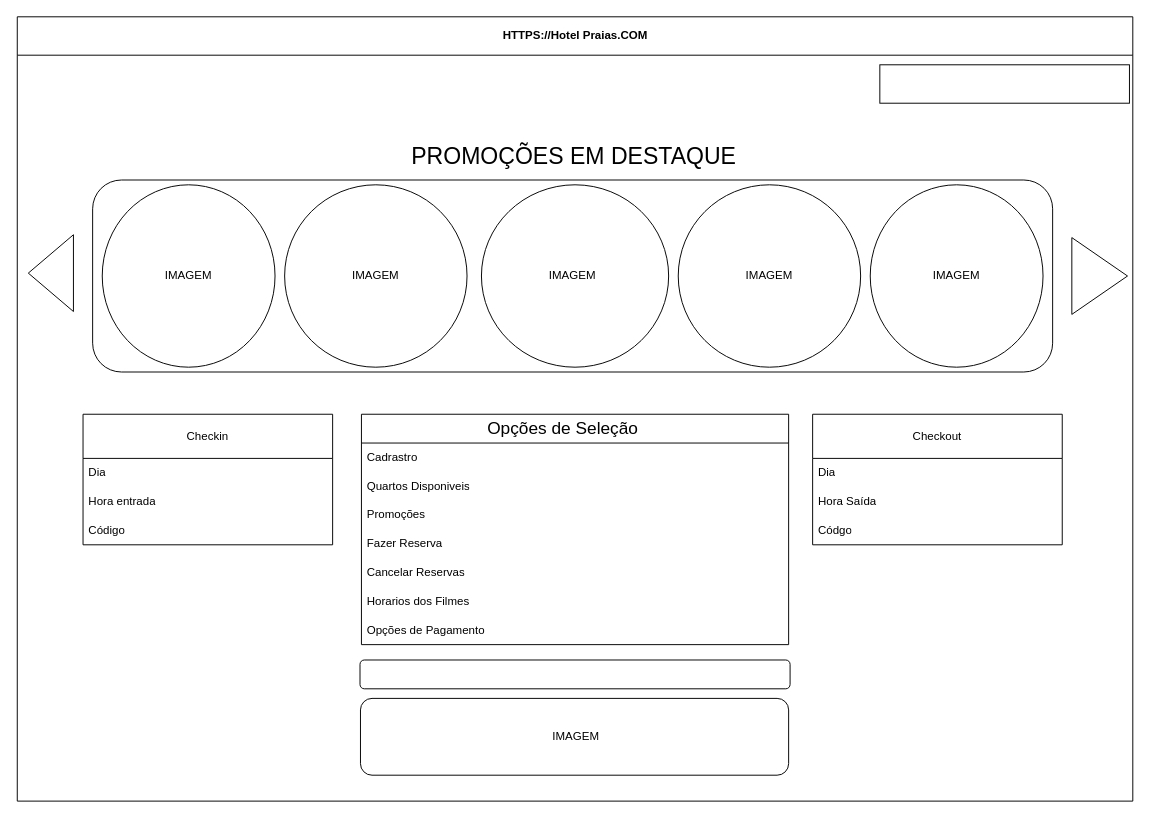
This 1149x818 diagram has some shape labels left out. The shapes that lost their labels are listed below. From the top down, each one's centre as x and y in pixels, then its label:
At point (1004, 83): "LOGIN:********************** SENHA:*********************".
At point (574, 674): "Próximas Promoções".
